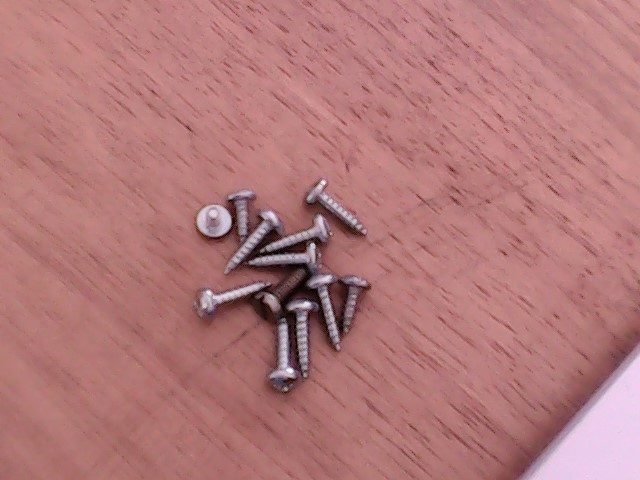Metal: (171, 176, 389, 418)
